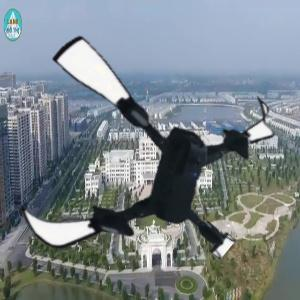drone: (8, 27, 269, 288)
